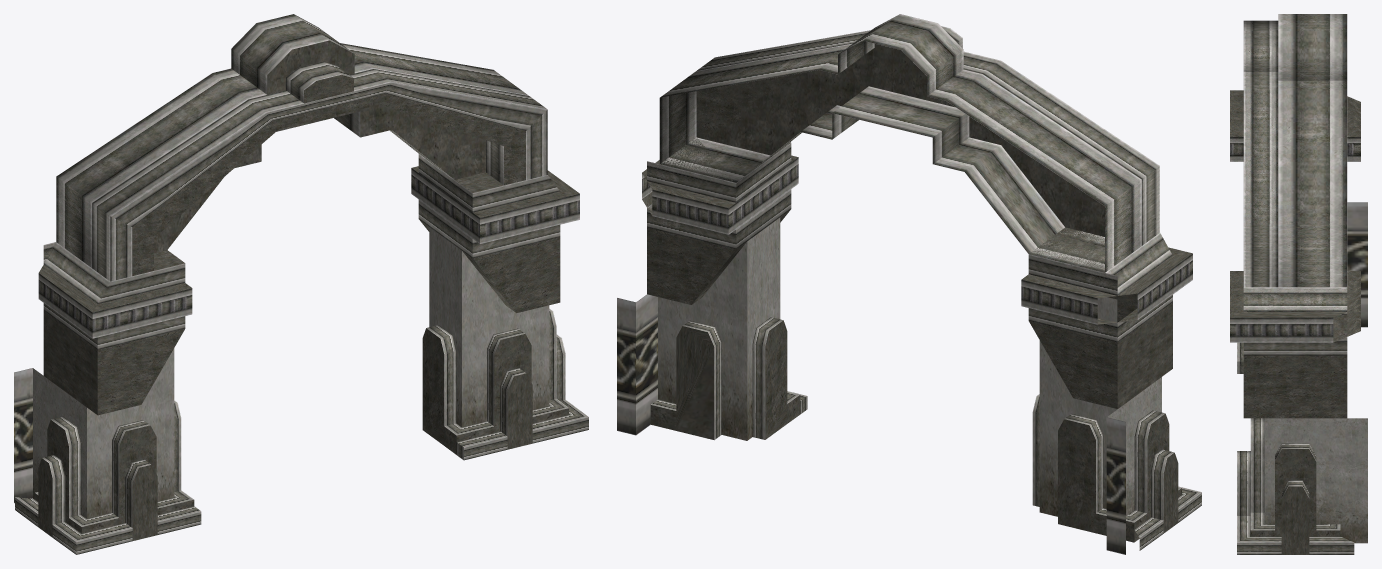
The model's file is MAINHALL_DOOR_FRAME.fbx.
3 renders of one model, left to right at view 1: azimuth 30°, elevation 25°; view 2: azimuth 150°, elevation 25°; view 3: azimuth 270°, elevation 25°, orthographic. The views are drawn at different scales.
Parts seen in each view (by area): view 1: MAINHALL_DOOR_FRAME; view 2: MAINHALL_DOOR_FRAME; view 3: MAINHALL_DOOR_FRAME.
Boxes of the visible parts, x1,y1,x2,y2 form: MAINHALL_DOOR_FRAME: [14, 14, 588, 554]; MAINHALL_DOOR_FRAME: [617, 14, 1201, 554]; MAINHALL_DOOR_FRAME: [1230, 14, 1367, 554].
Bounding box in the file's own units: 82078 × 66000 × 20000.
Materials: 6 (6 with a texture image).
